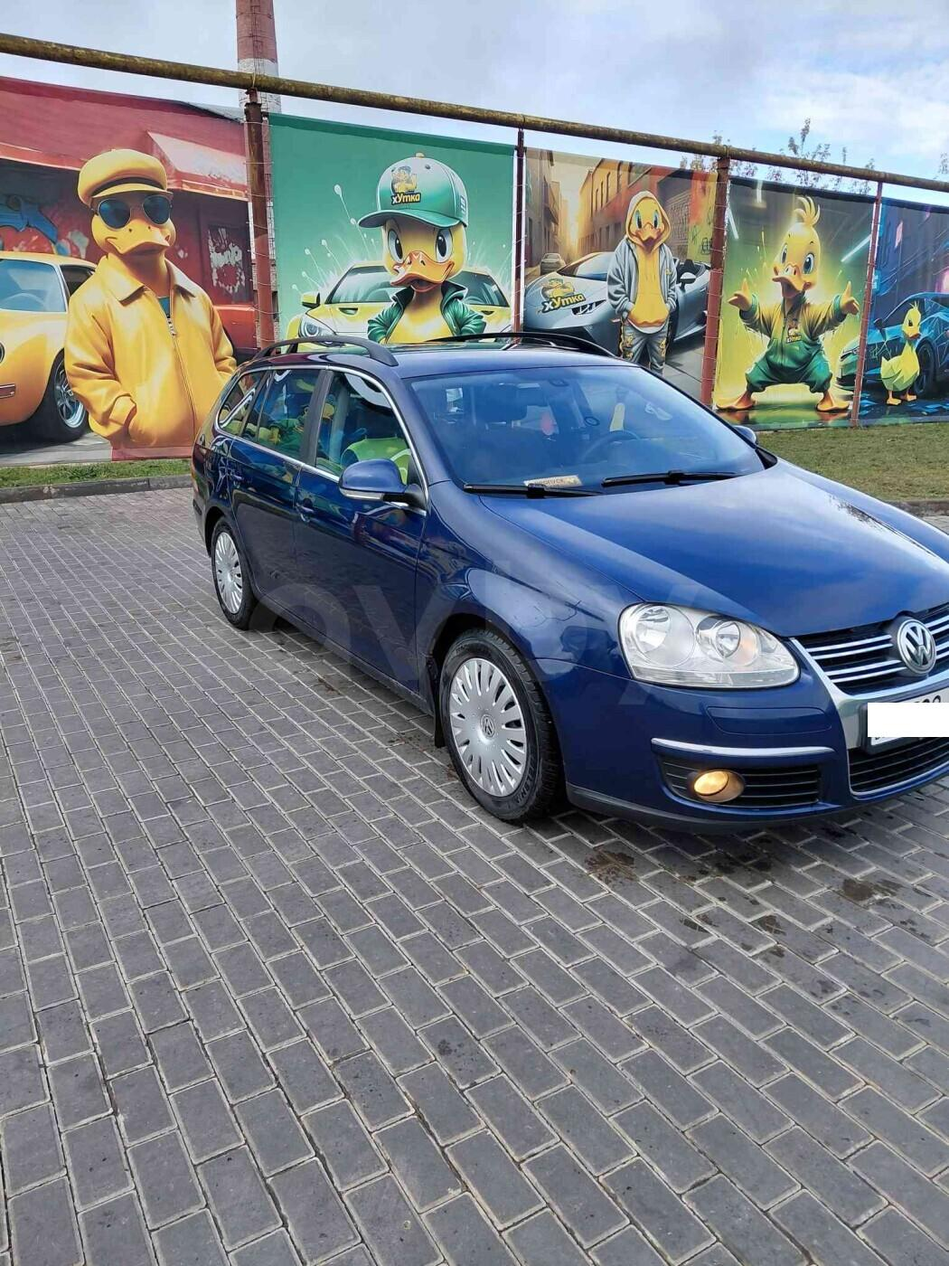Golf_2003-2009: (185, 337, 949, 855)
